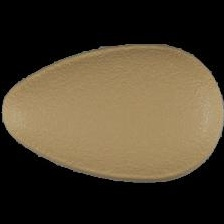54868-5956: (0, 0, 224, 224)
